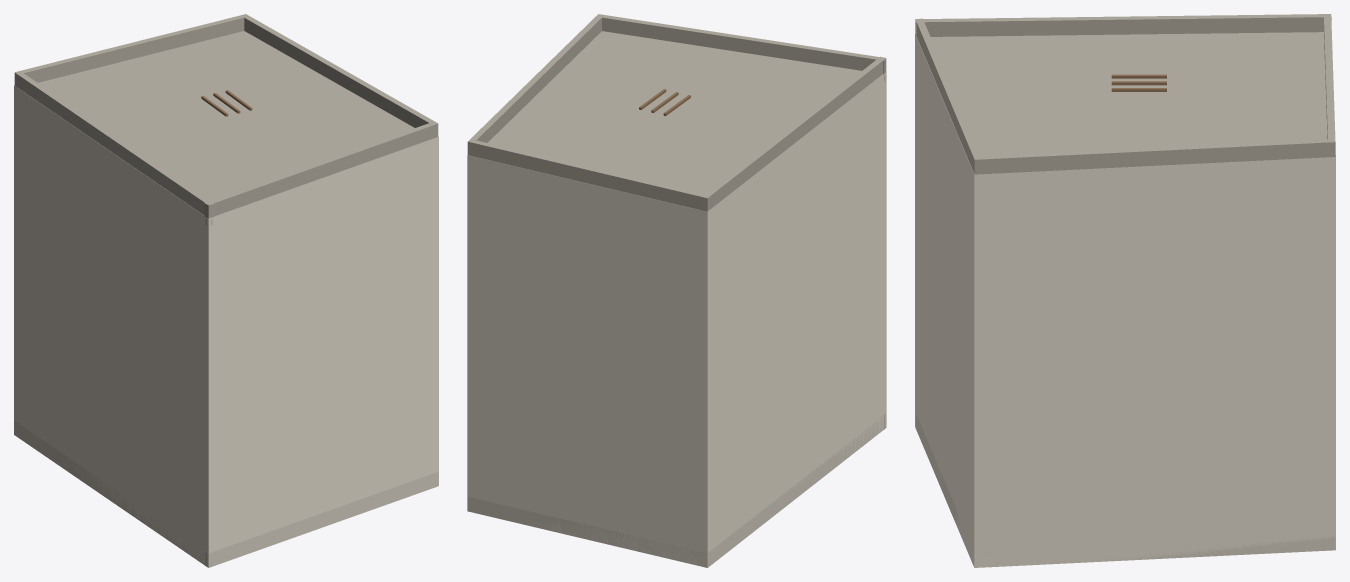
The model's file is cop_equipamento_especial_05__way_588408934.fbx.
The picture shows the model from 3 angles, left to right: view 1: azimuth 30°, elevation 25°; view 2: azimuth 150°, elevation 25°; view 3: azimuth 270°, elevation 25°; orthographic projection. The views are drawn at different scales.
Visible parts, largest first — view 1: cop_equipamento_especial_05__way_588408934_wall, cop_equipamento_especial_05__way_588408934_roof, cop_equipamento_especial_05__way_588408934_stone; view 2: cop_equipamento_especial_05__way_588408934_wall, cop_equipamento_especial_05__way_588408934_roof, cop_equipamento_especial_05__way_588408934_stone; view 3: cop_equipamento_especial_05__way_588408934_wall, cop_equipamento_especial_05__way_588408934_roof, cop_equipamento_especial_05__way_588408934_stone, cop_equipamento_especial_05__way_588408934_wood.
Boxes of the visible parts, left/top/right/bottom form: cop_equipamento_especial_05__way_588408934_wall: left=14, top=85, right=438, bottom=567; cop_equipamento_especial_05__way_588408934_roof: left=14, top=14, right=438, bottom=218; cop_equipamento_especial_05__way_588408934_stone: left=14, top=421, right=438, bottom=567; cop_equipamento_especial_05__way_588408934_wall: left=467, top=72, right=886, bottom=567; cop_equipamento_especial_05__way_588408934_roof: left=467, top=14, right=886, bottom=211; cop_equipamento_especial_05__way_588408934_stone: left=467, top=414, right=886, bottom=567; cop_equipamento_especial_05__way_588408934_wall: left=915, top=34, right=1335, bottom=567; cop_equipamento_especial_05__way_588408934_roof: left=915, top=14, right=1335, bottom=174; cop_equipamento_especial_05__way_588408934_stone: left=915, top=412, right=1335, bottom=567; cop_equipamento_especial_05__way_588408934_wood: left=1111, top=74, right=1166, bottom=91.
Bounding box in the file's own units: 1435 × 1877 × 1746.
